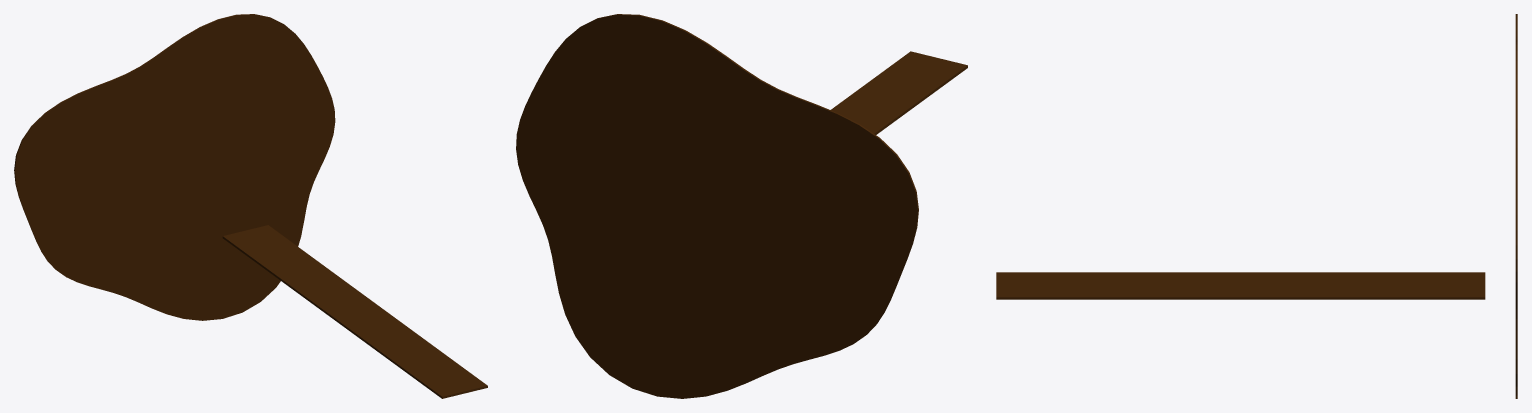
The model's file is fault_hydraulic_leak.obj.
3 renders of one model, left to right at view 1: azimuth 30°, elevation 25°; view 2: azimuth 150°, elevation 25°; view 3: azimuth 270°, elevation 25°, orthographic. The views are drawn at different scales.
Parts seen in each view (by area): view 1: fault_hydraulic_leak; view 2: fault_hydraulic_leak; view 3: fault_hydraulic_leak.
Boxes of the visible parts, x1,y1,x2,y2 form: fault_hydraulic_leak: [14, 14, 487, 398]; fault_hydraulic_leak: [516, 14, 967, 398]; fault_hydraulic_leak: [996, 14, 1517, 398].
Size of the model in its own units: 0.6319 by 0.5656 by 0.7995.
